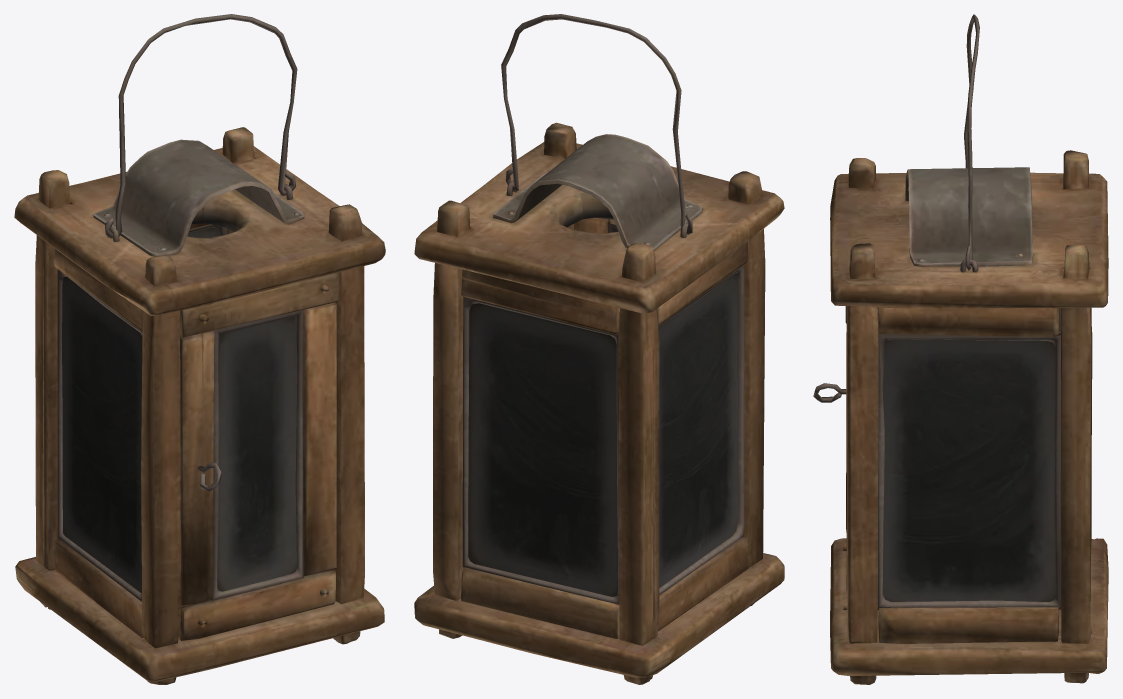
File: lantern-wood.glb
3 renders of one model, left to right at view 1: azimuth 30°, elevation 25°; view 2: azimuth 150°, elevation 25°; view 3: azimuth 270°, elevation 25°, orthographic.
Visible parts, largest first — view 1: wooden_lantern_01; view 2: wooden_lantern_01; view 3: wooden_lantern_01.
Part boxes in pixels (bbox=[...]): wooden_lantern_01: bbox=[14, 14, 385, 684]; wooden_lantern_01: bbox=[414, 14, 784, 684]; wooden_lantern_01: bbox=[813, 14, 1108, 684].
Bounding box in the file's own units: 0.2211 × 0.5296 × 0.2342.
Materials: 2 (2 with a texture image).
